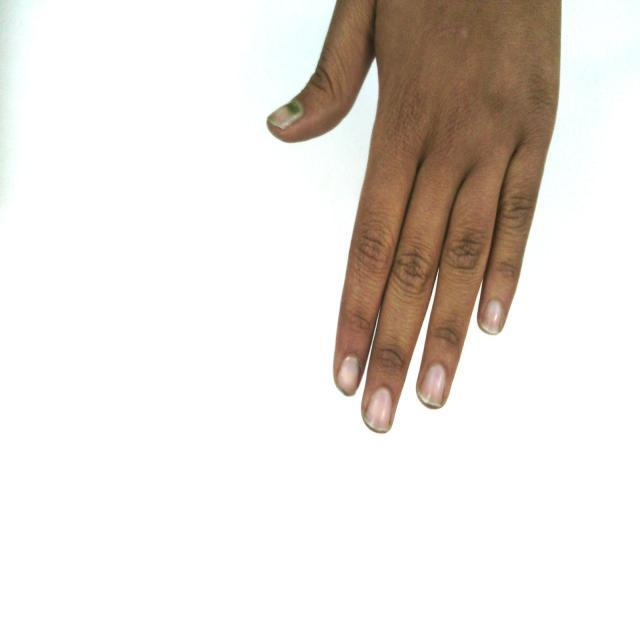Fingernail: (418, 364, 448, 407), (364, 388, 392, 430), (269, 100, 302, 128), (338, 357, 360, 394), (481, 300, 503, 334)
